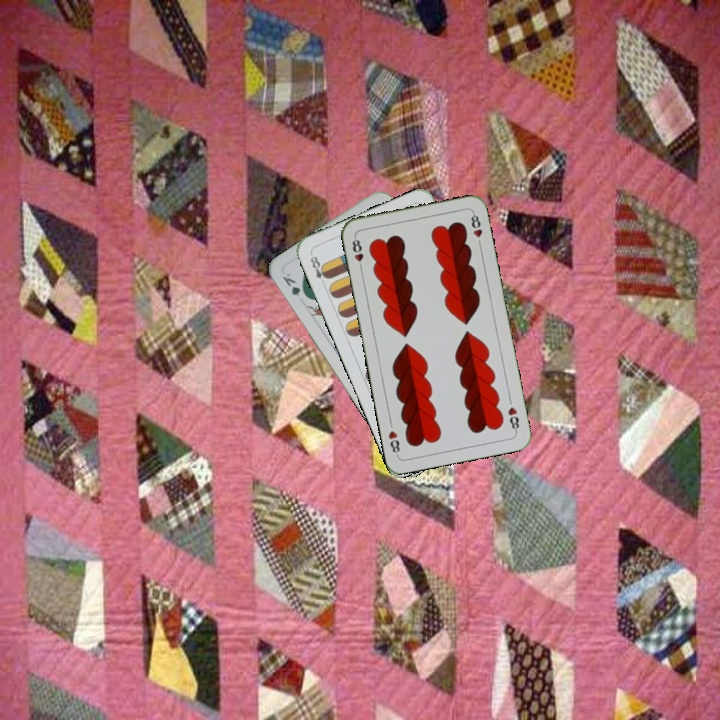E8: (306, 250, 331, 289)
GK: (279, 269, 310, 301)
H8: (348, 233, 366, 273), (504, 403, 522, 435)
